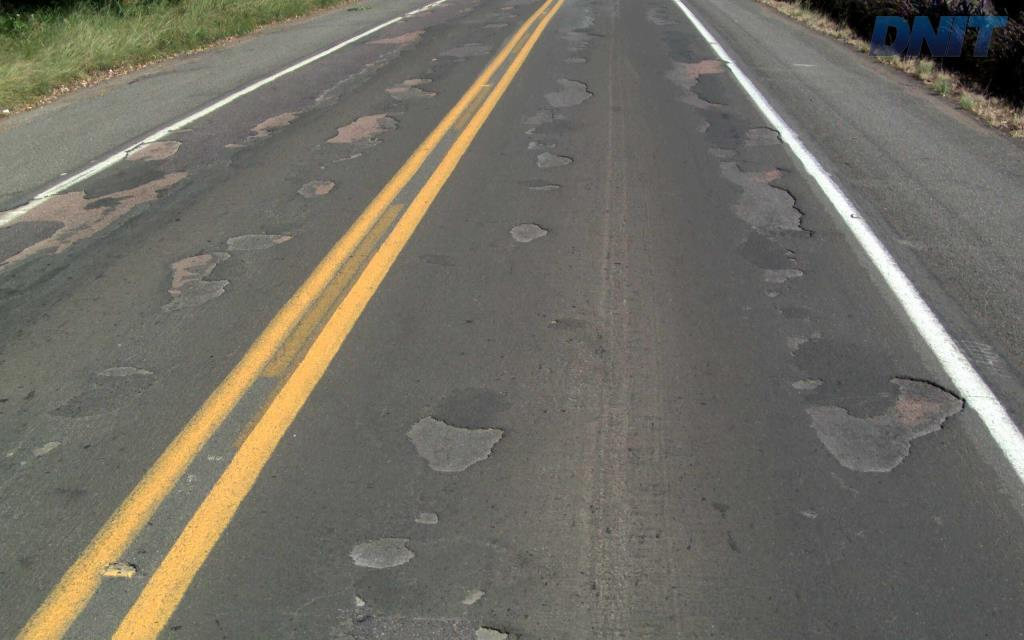pothole: (777, 365, 966, 477), (705, 140, 816, 239), (400, 403, 513, 485), (663, 56, 729, 110), (342, 531, 422, 573), (537, 72, 596, 108), (405, 499, 449, 533), (463, 617, 526, 638), (508, 218, 550, 249), (736, 123, 784, 148), (532, 149, 577, 171), (521, 178, 568, 198), (758, 265, 803, 285), (560, 52, 588, 67), (693, 116, 711, 136), (778, 246, 797, 262)
